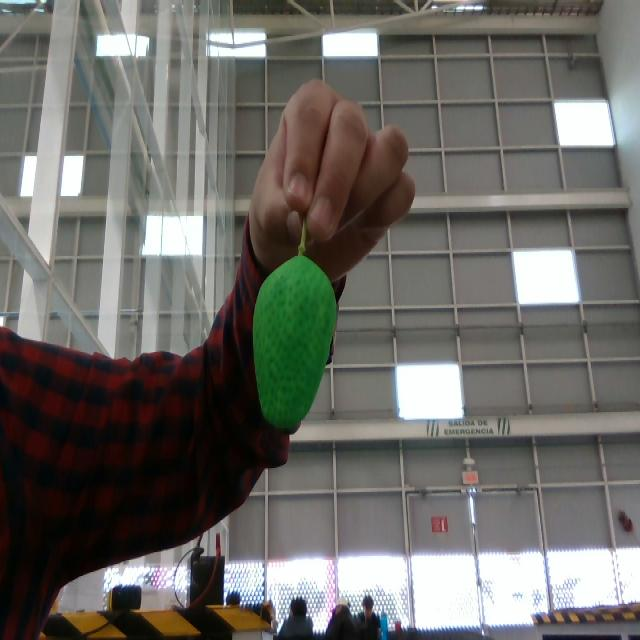verde: (252, 254, 339, 429)
